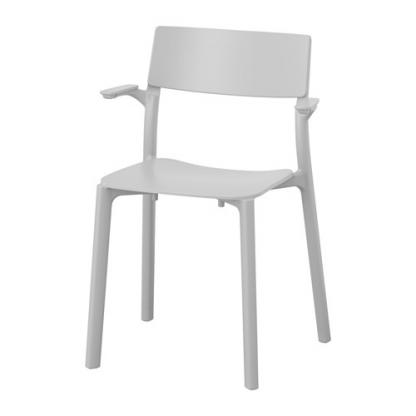Chair: (84, 22, 332, 388)
